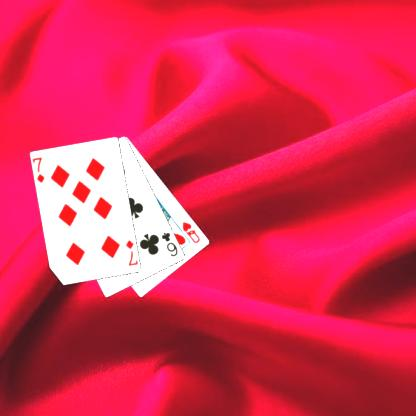6C: (159, 229, 179, 258)
7D: (123, 237, 138, 268), (32, 155, 46, 184)
QH: (180, 219, 202, 244)
